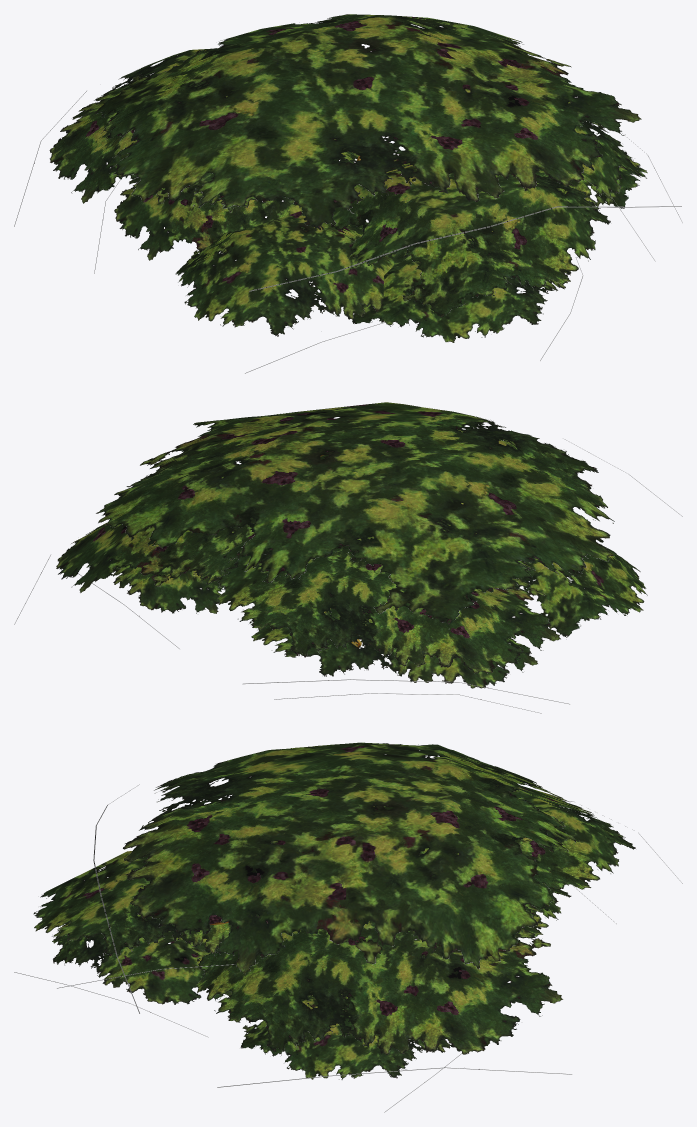
Rendered from tree1000m.DAE.
3 renders of one model, top to bottom at view 1: azimuth 30°, elevation 25°; view 2: azimuth 150°, elevation 25°; view 3: azimuth 270°, elevation 25°, orthographic. The views are drawn at different scales.
Visible parts, largest first — view 1: Plane08-Pivot; view 2: Plane08-Pivot; view 3: Plane08-Pivot.
Part boxes in pixels (x1,y1,x2,y2): Plane08-Pivot: (14, 14, 682, 373); Plane08-Pivot: (14, 402, 682, 713); Plane08-Pivot: (14, 742, 682, 1112).
Size of the model in its own units: 1651 by 614 by 1693.
2 materials, 2 textured.
